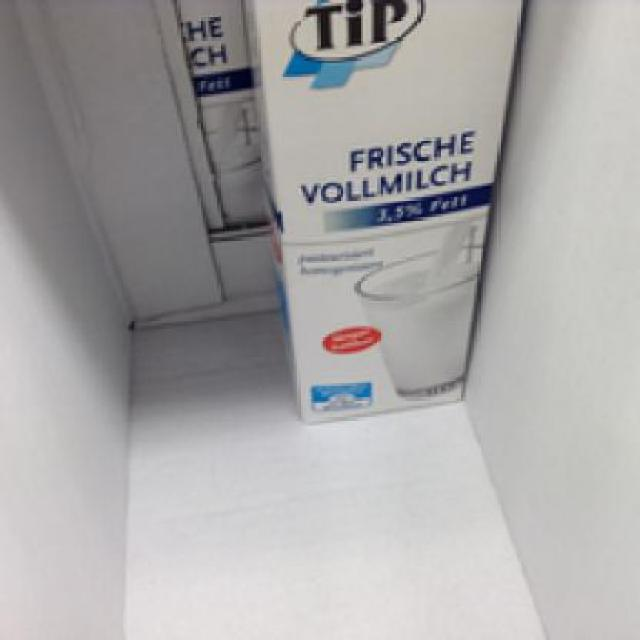Milk: (240, 0, 529, 426)
